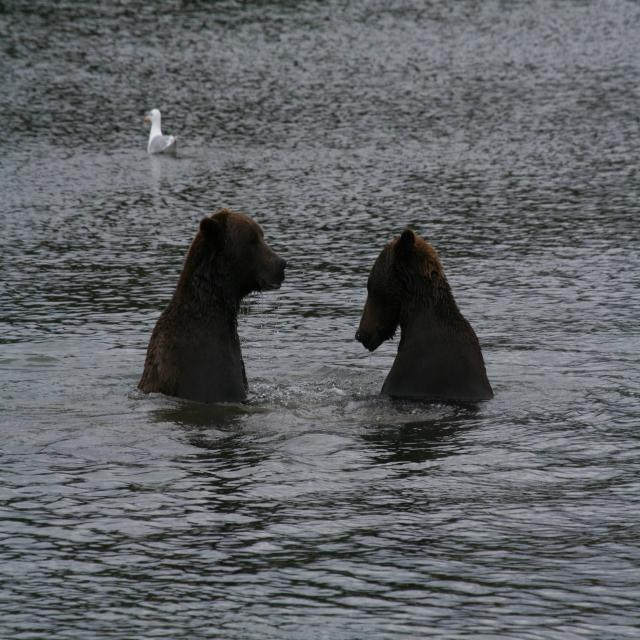bear face: (145, 207, 286, 394), (355, 236, 488, 403)
